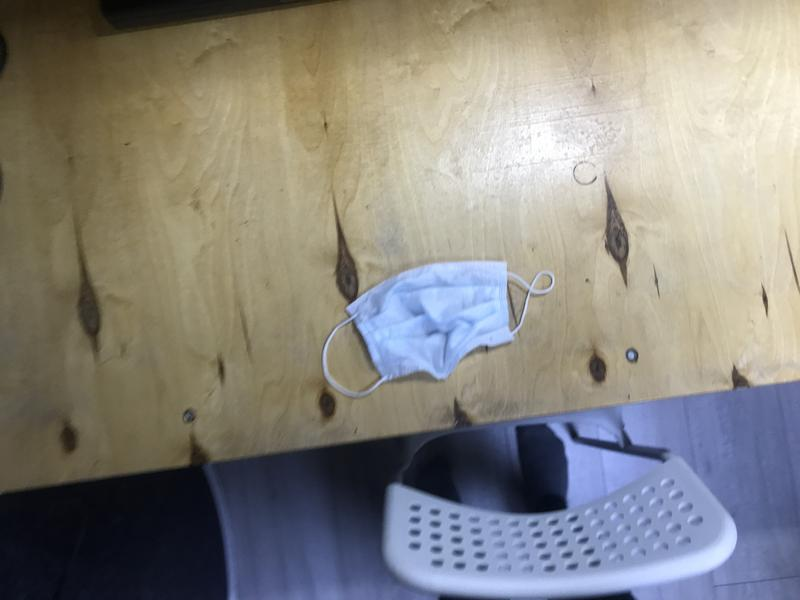medical_mask: (320, 263, 554, 401)
